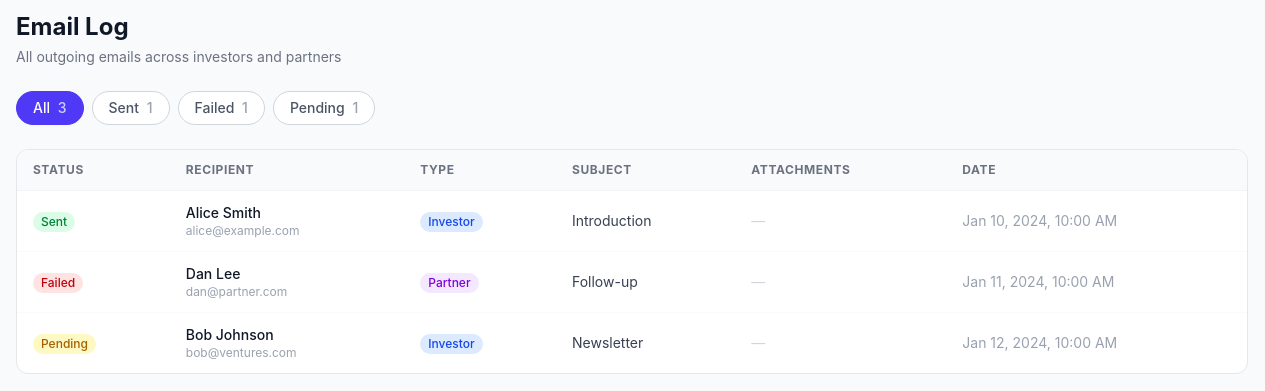
it: EmailsPage › filters to show only PENDING emails
The image size is (1265, 391).
Check: the text "Newsletter" is shown, box left=572, top=334, right=643, bottom=351
Step 1. Click the button "Pending 1" → [324, 108], box left=273, top=91, right=375, bottom=125
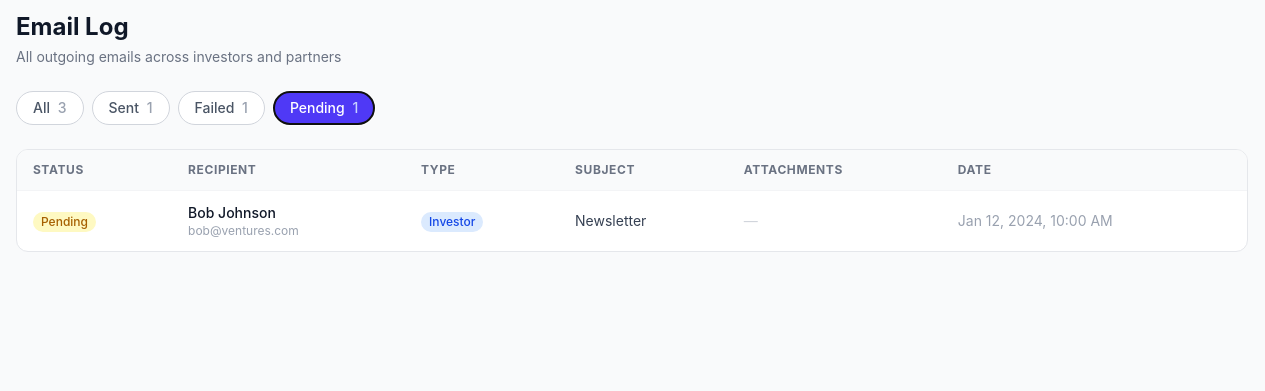
Check: the text "Newsletter" is shown, box left=575, top=212, right=646, bottom=229
Check: the text "Introduction" is gone
